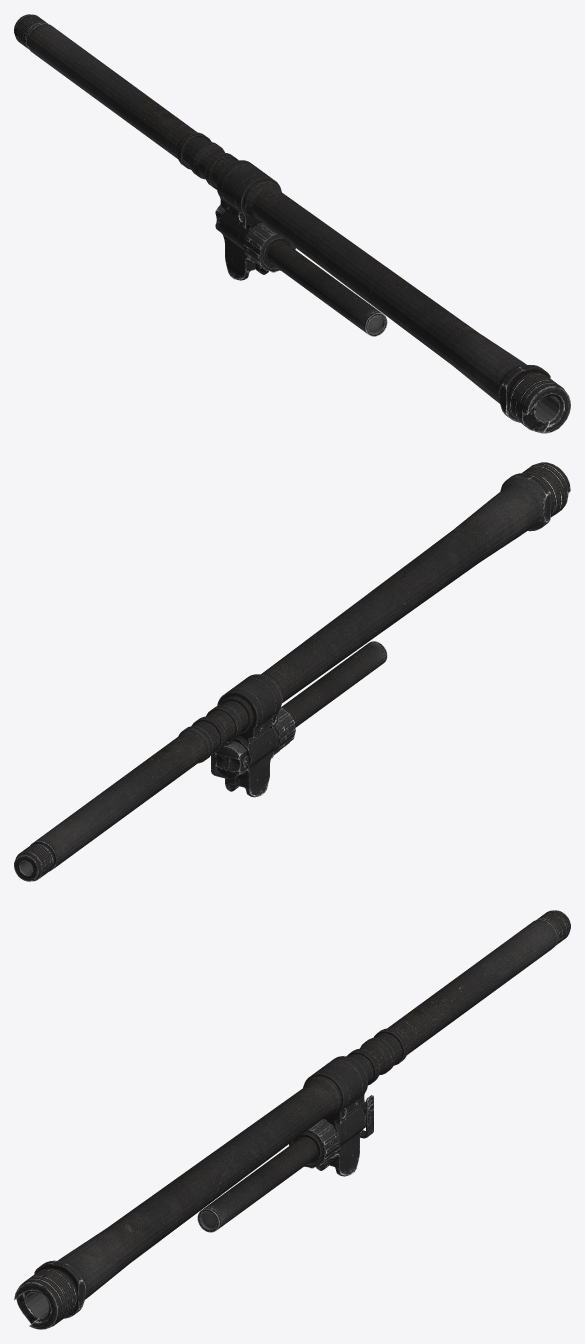
3 views of the same model, one above another, from view 1: azimuth 30°, elevation 25°; view 2: azimuth 150°, elevation 25°; view 3: azimuth 330°, elevation 25° (orthographic).
Visible parts, largest first — view 1: TW_5b7be1265acfc400161d0798_PZ_Import; view 2: TW_5b7be1265acfc400161d0798_PZ_Import; view 3: TW_5b7be1265acfc400161d0798_PZ_Import.
Boxes of the visible parts, x1=… form: TW_5b7be1265acfc400161d0798_PZ_Import: x1=14, y1=14, x2=570, y2=433; TW_5b7be1265acfc400161d0798_PZ_Import: x1=14, y1=462, x2=570, y2=881; TW_5b7be1265acfc400161d0798_PZ_Import: x1=14, y1=910, x2=570, y2=1329.
Size of the model in its own units: 0.0156 by 0.3083 by 0.0366.
Materials: 1 (1 with a texture image).
